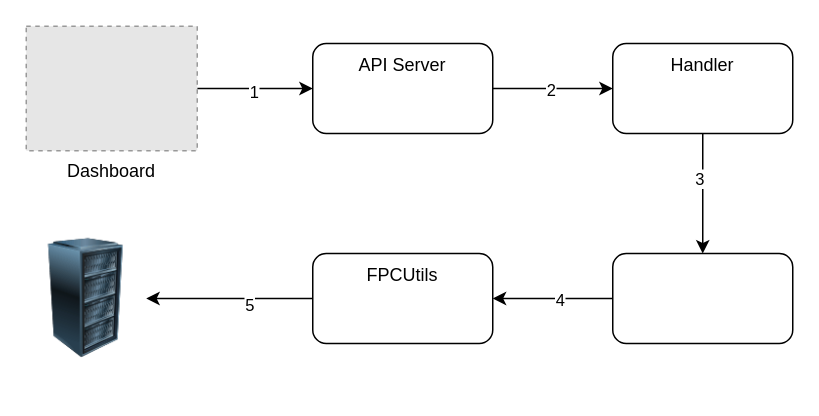
Some shapes in this 819 by 416 pixel diagram are drawn without their labels. Grey dashed boxes stand in for pictures. The shapes that lost their labels are listed below. From the top down, each one's box as (x1, y1, x2, y2) in pixels, then its label:
(26, 238, 146, 358): Peer
(611, 252, 793, 344): Chaincode API
